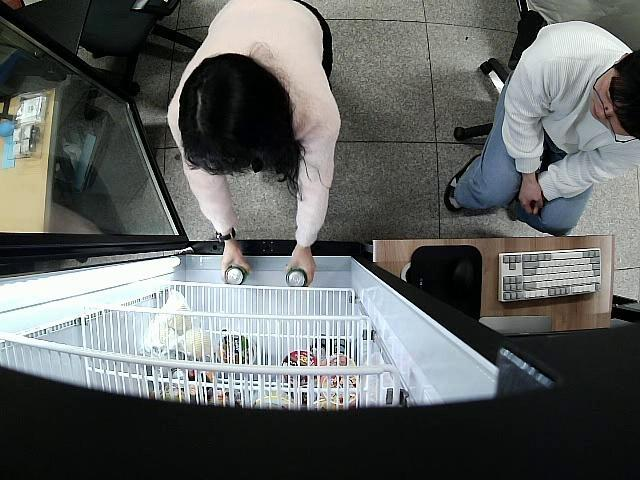12_chilsungCider: (225, 264, 248, 286), (286, 266, 308, 287)
